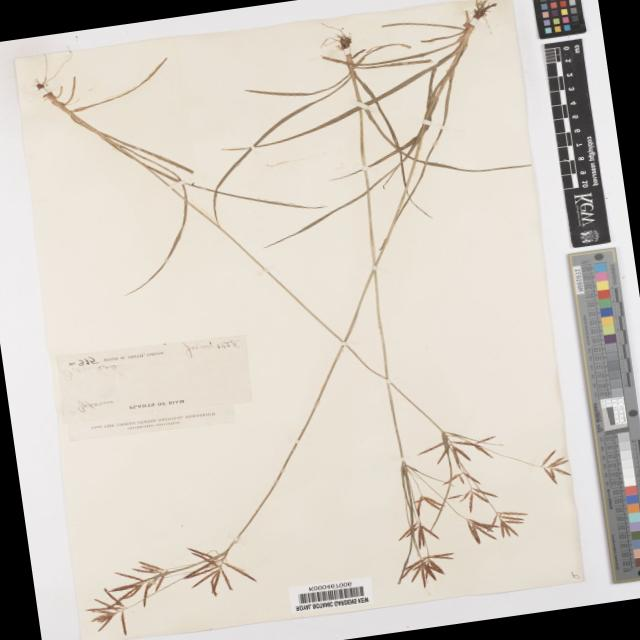cyperus: (76, 528, 267, 640), (426, 417, 576, 554), (384, 455, 515, 594)
